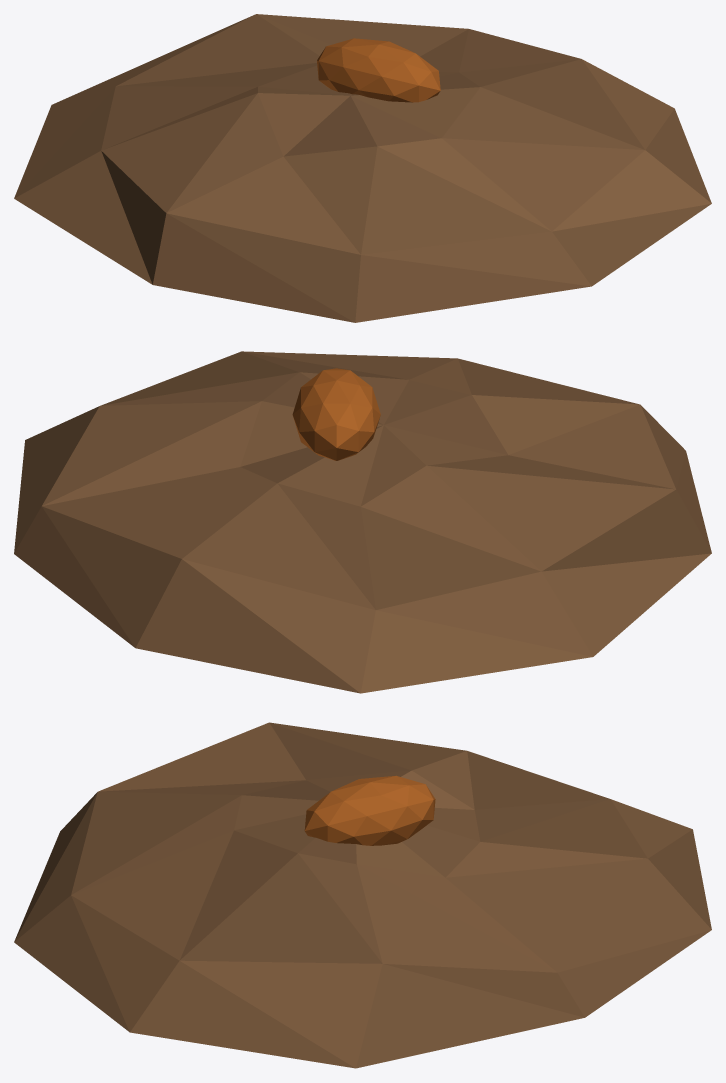
File: ZB_agac_hurma_a1.glb
The picture shows the model from 3 angles, top to bottom: view 1: azimuth 30°, elevation 25°; view 2: azimuth 150°, elevation 25°; view 3: azimuth 270°, elevation 25°; orthographic projection. The views are drawn at different scales.
Parts seen in each view (by area): view 1: ZB_agac_hurma_a1; view 2: ZB_agac_hurma_a1; view 3: ZB_agac_hurma_a1.
Part boxes in pixels (x1,y1,x2,y2): ZB_agac_hurma_a1: [14, 14, 711, 322]; ZB_agac_hurma_a1: [14, 351, 711, 693]; ZB_agac_hurma_a1: [14, 722, 711, 1068].
Bounding box in the file's own units: 0.5934 × 0.125 × 0.5771.
